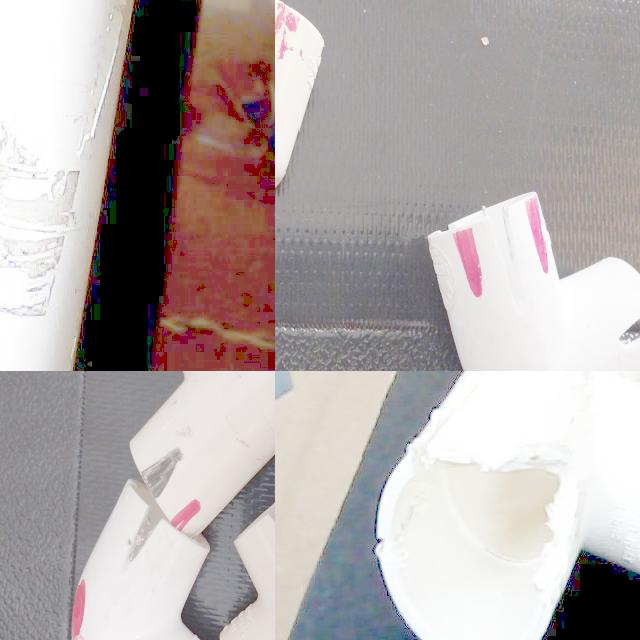Defective: (0, 0, 129, 181), (494, 429, 590, 640), (0, 134, 69, 328), (409, 374, 510, 486), (369, 506, 443, 582), (299, 90, 373, 145), (291, 6, 345, 47), (126, 471, 158, 536), (290, 48, 360, 77), (441, 0, 465, 55), (48, 337, 86, 371)
L Joint: (284, 0, 472, 172)
T Joint: (375, 371, 640, 640), (87, 462, 275, 640)
